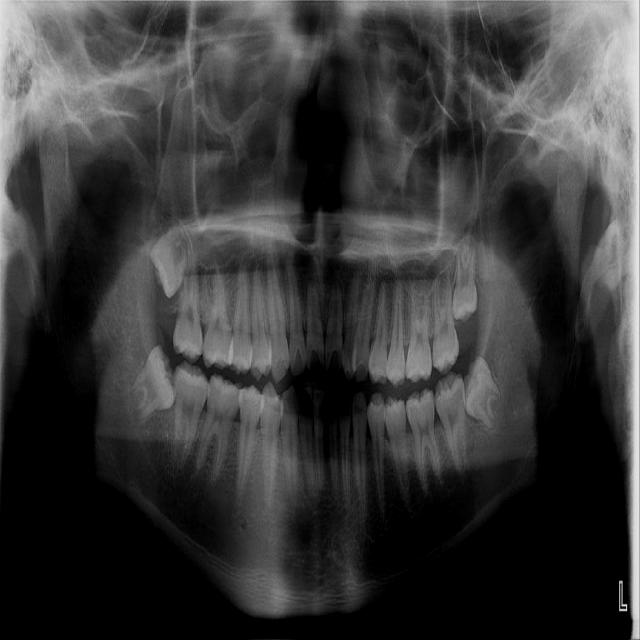impacted tooth: (130, 349, 174, 423)
